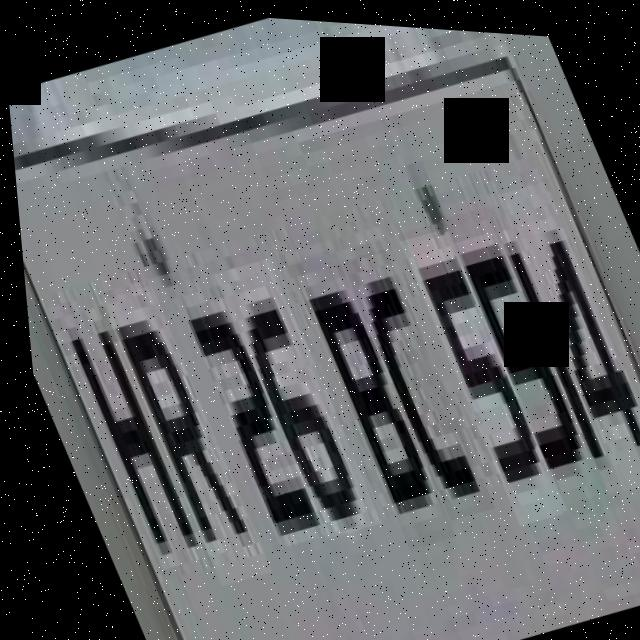4: (494, 171, 640, 485)
5: (424, 173, 608, 517), (394, 218, 560, 521)
6: (207, 251, 374, 538)
B: (282, 241, 447, 547)
C: (336, 241, 487, 517)
H: (48, 296, 211, 597)
R: (94, 280, 263, 586)
